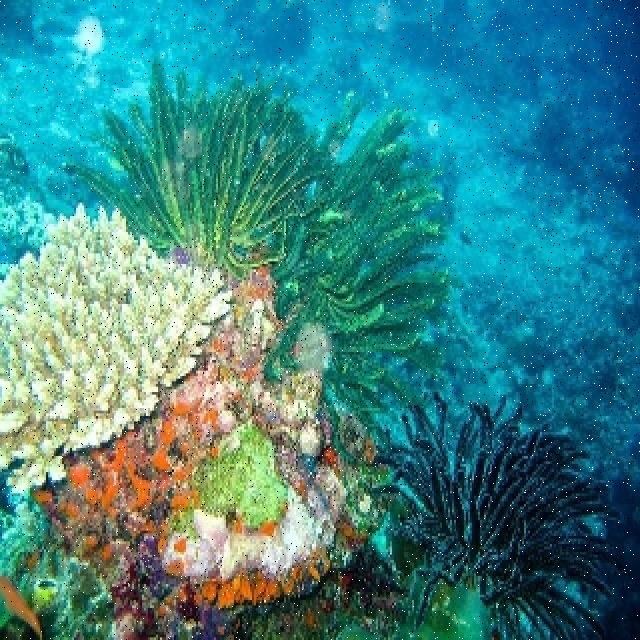aquatic plants: (265, 97, 455, 435), (367, 394, 626, 637), (72, 54, 334, 273)
fish: (0, 576, 40, 637)
reefs: (0, 203, 235, 488)
